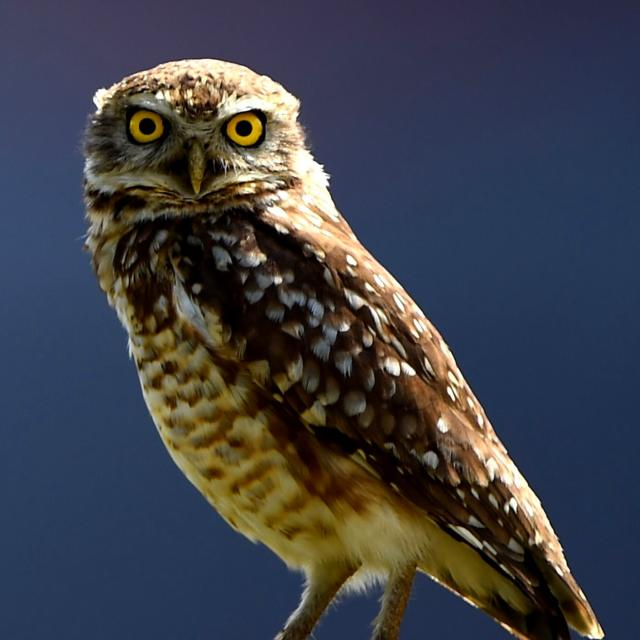owl: (84, 59, 603, 640)
